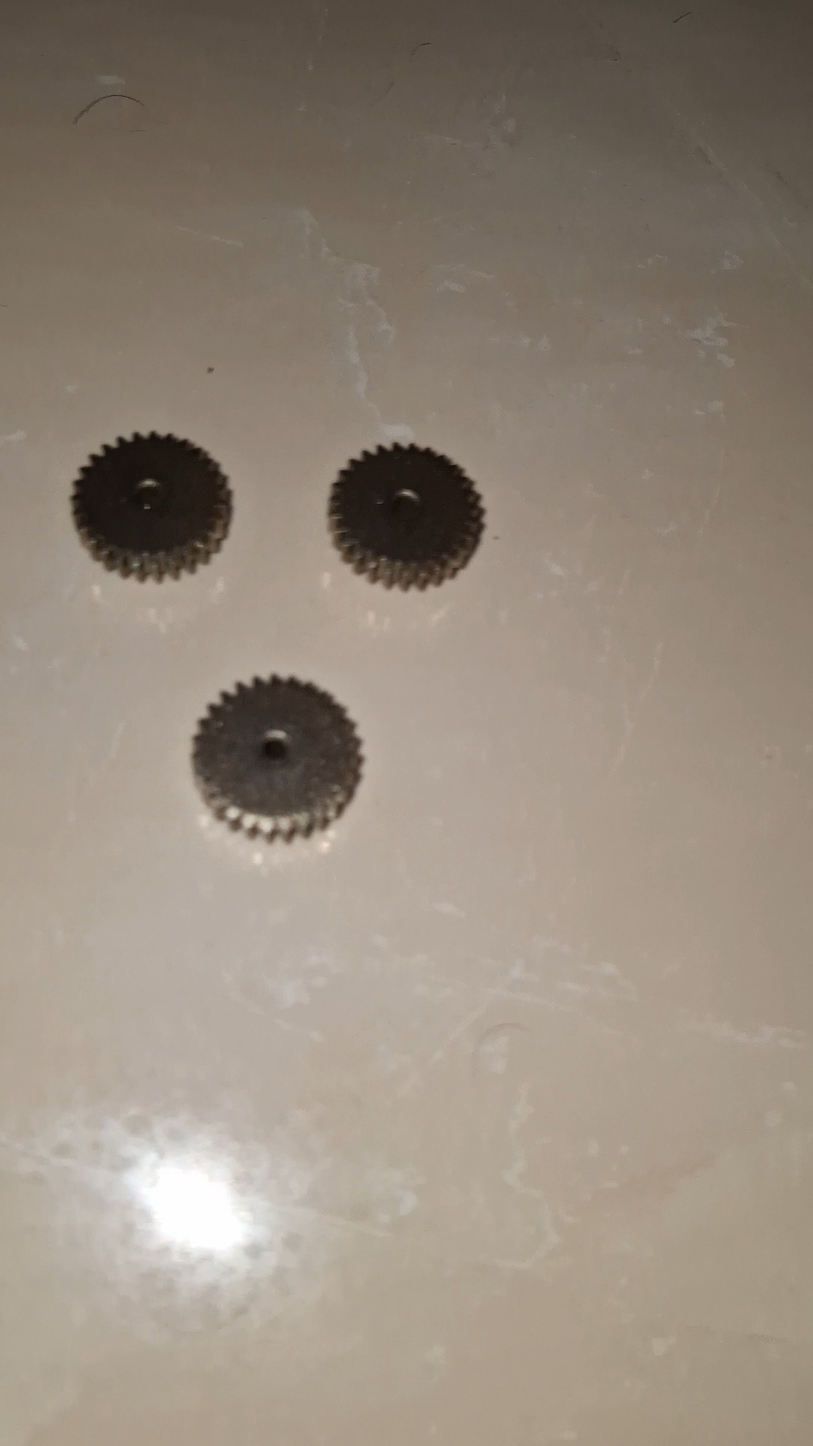spur gear: (192, 676, 362, 840), (72, 433, 231, 580), (329, 445, 484, 589)
